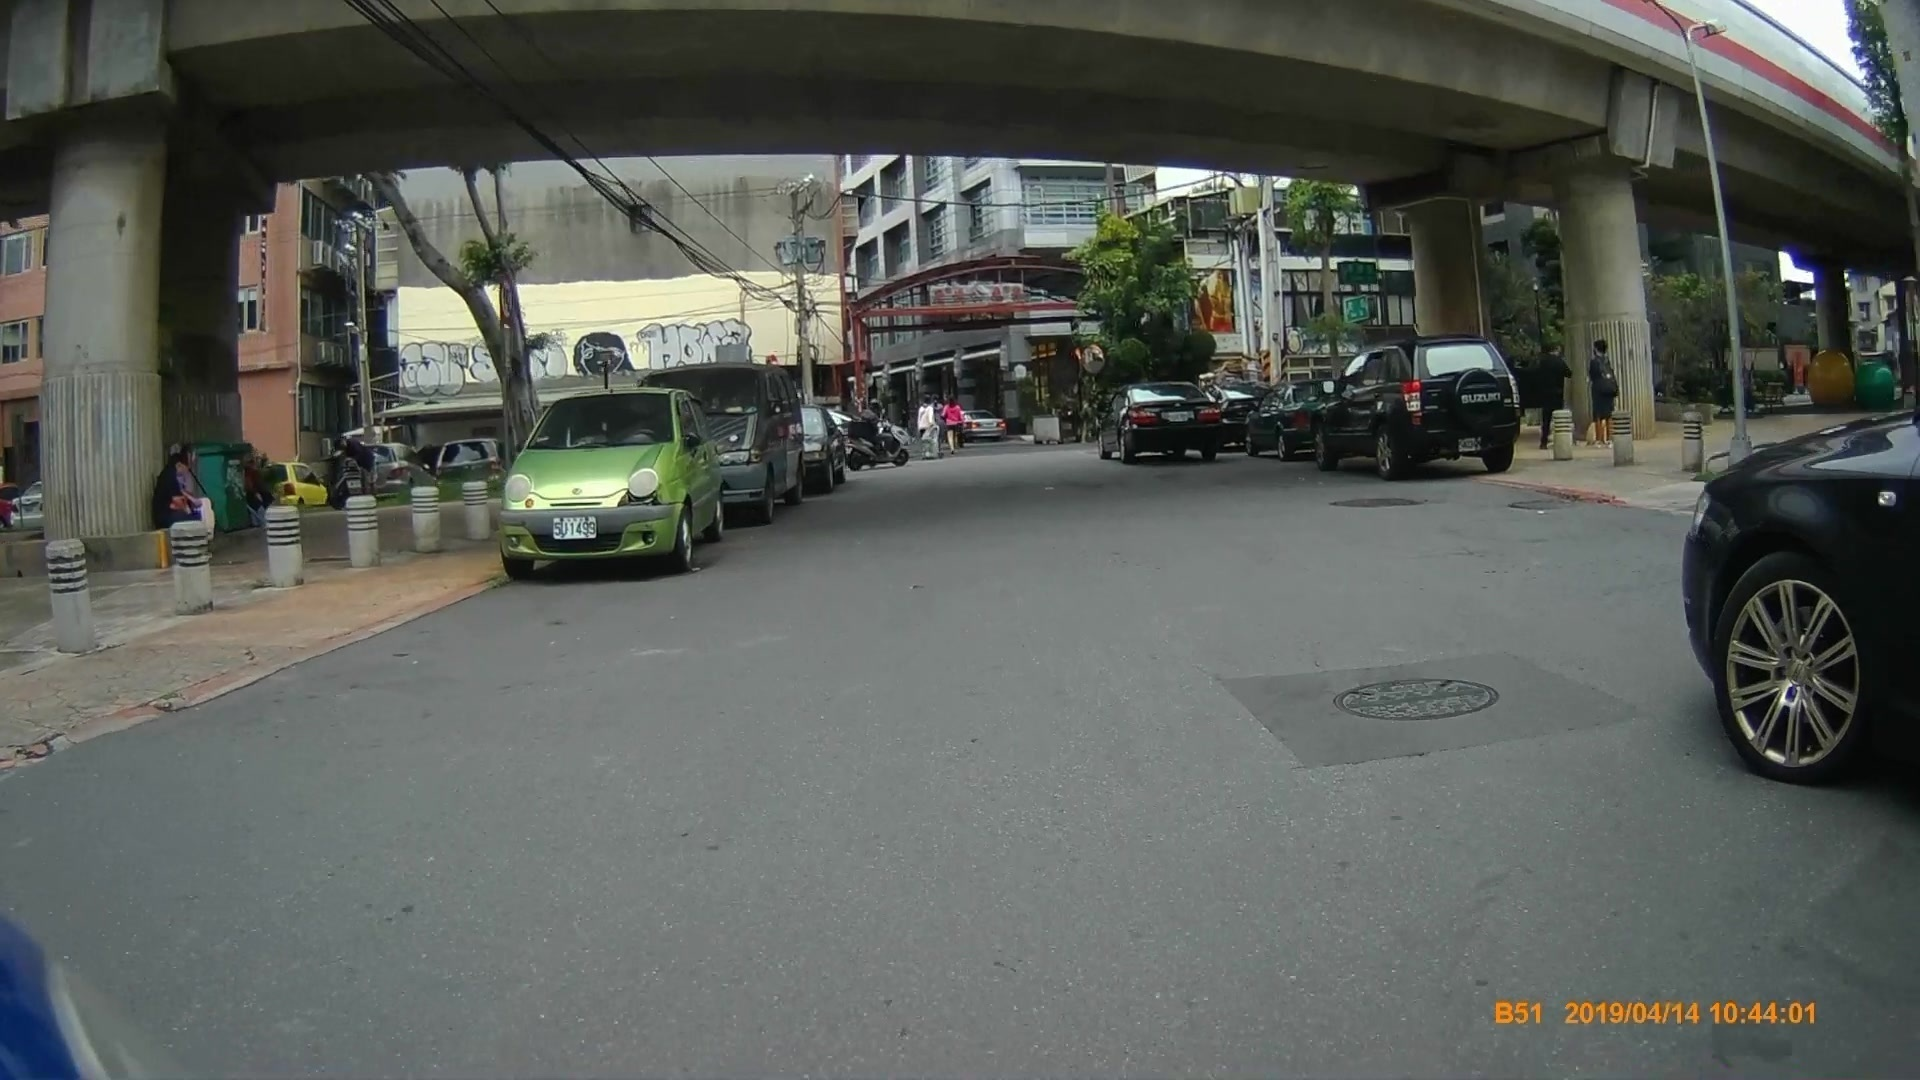License_plate: (549, 515, 599, 537), (1167, 411, 1194, 422)
